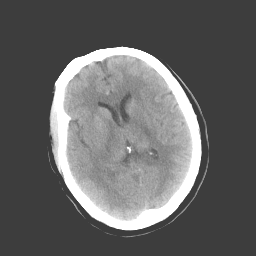ischemic: (75, 138, 100, 165)
